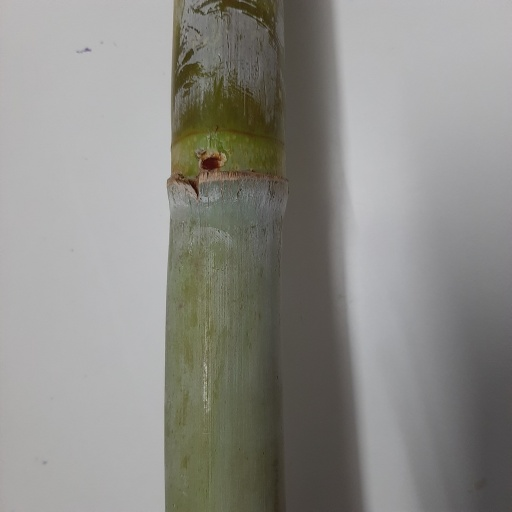Damage_Bud: (196, 150, 227, 172)
